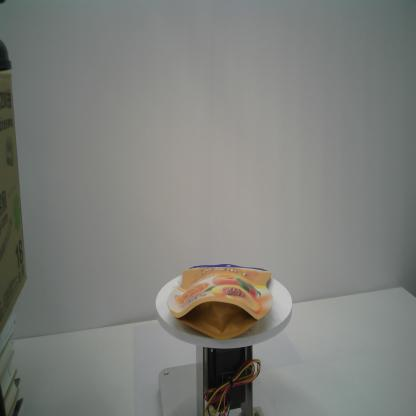Dried Fruit: (167, 261, 275, 342)
